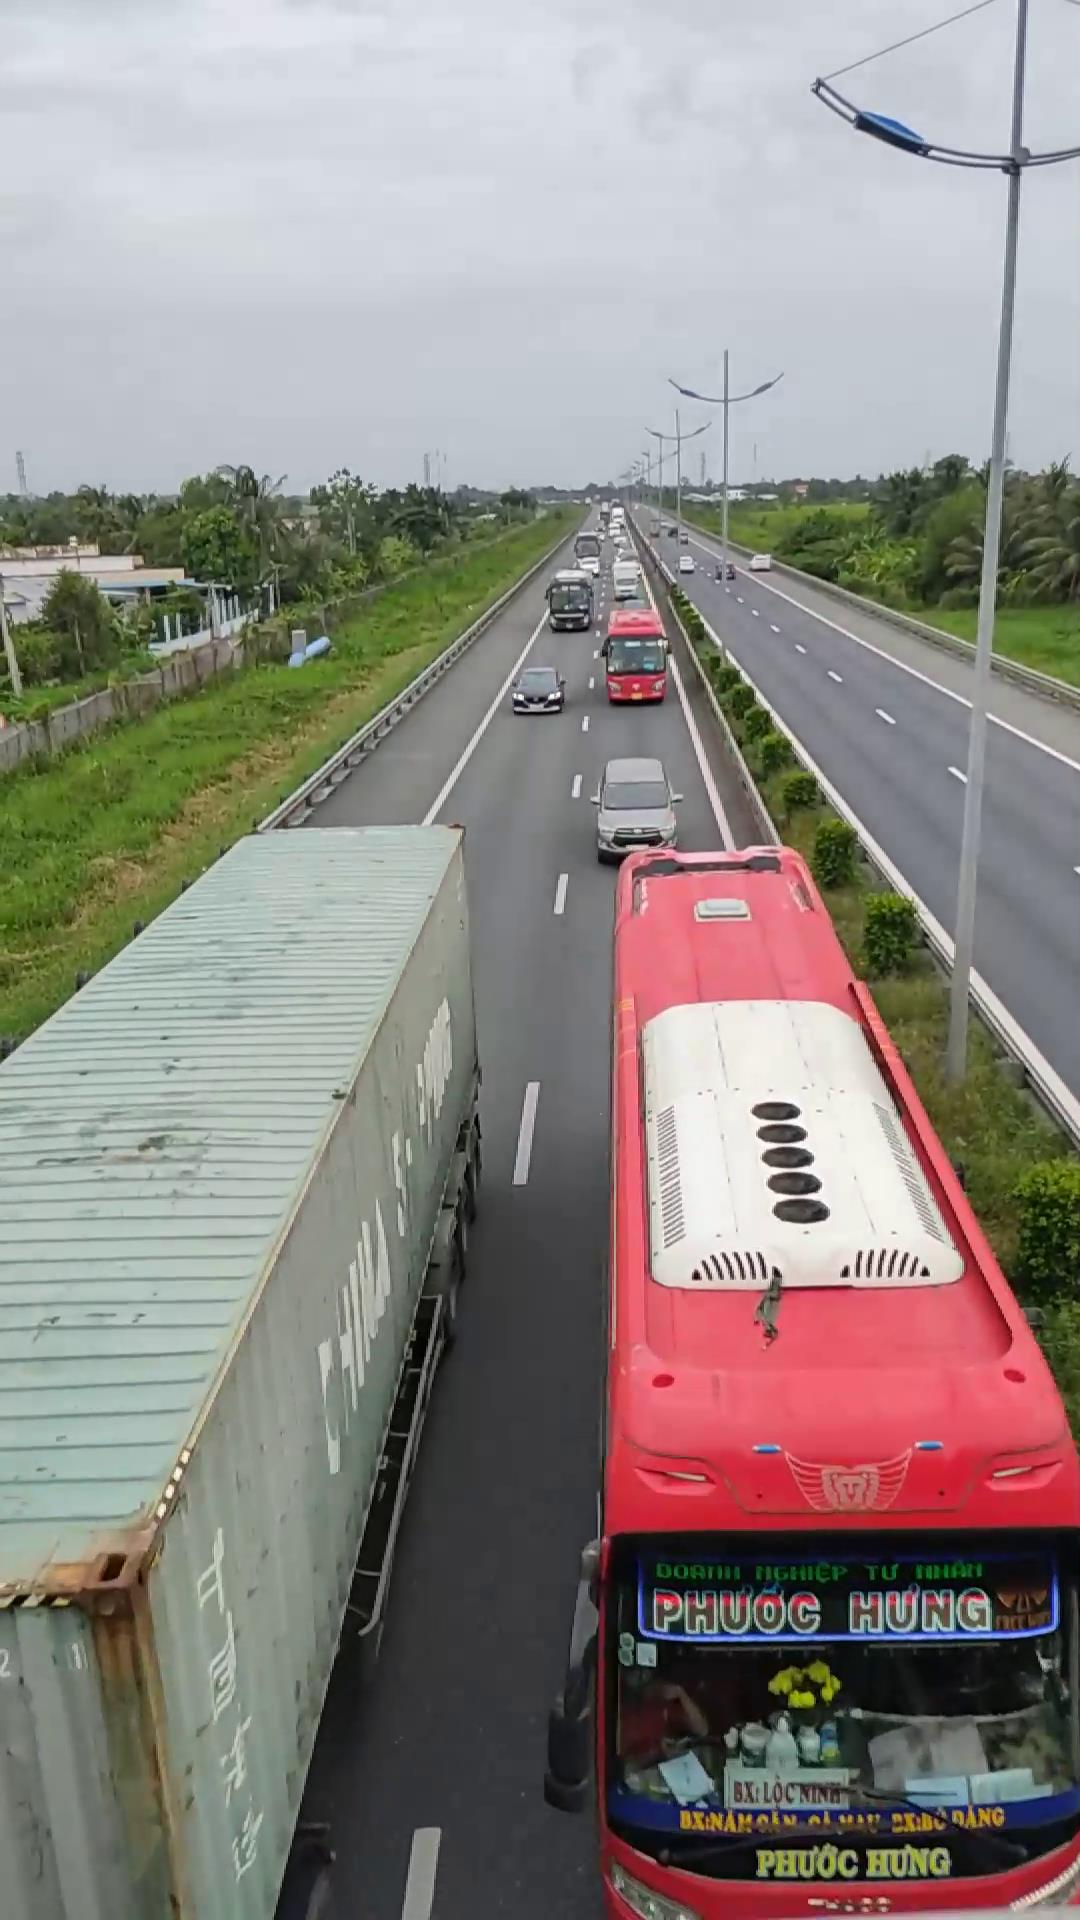bus: (597, 841, 1080, 1917)
car: (587, 757, 679, 865)
container: (0, 815, 477, 1916)
